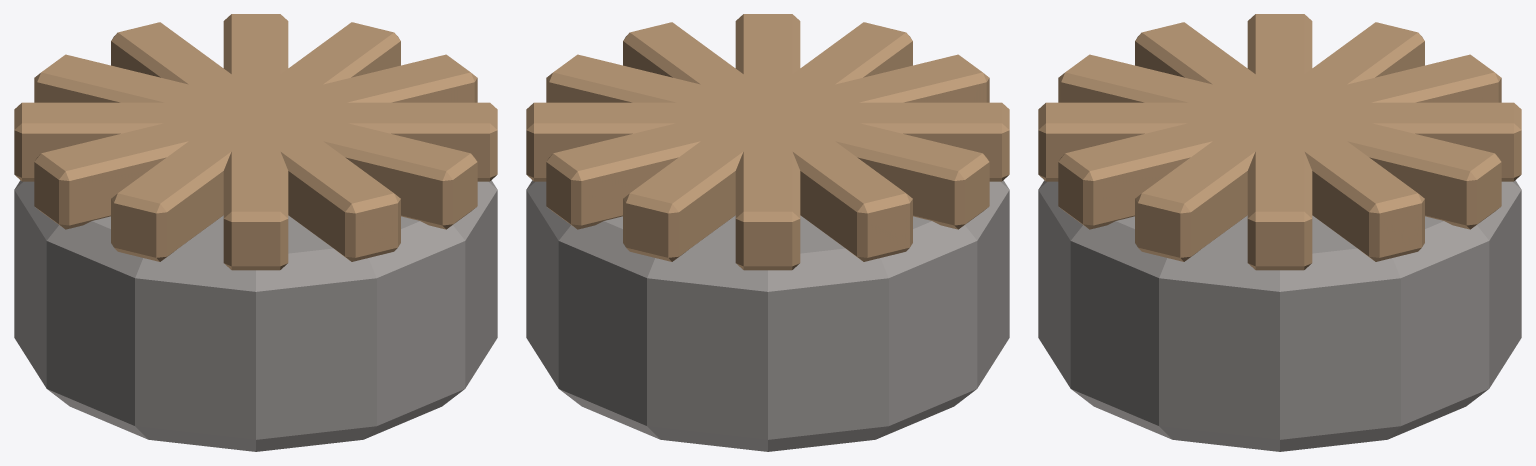
3 views of the same model, side by side, from view 1: azimuth 30°, elevation 25°; view 2: azimuth 150°, elevation 25°; view 3: azimuth 270°, elevation 25° (orthographic).
Visible parts, largest first — view 1: HubVisual; view 2: HubVisual; view 3: HubVisual.
Part boxes in pixels (<box>): HubVisual: <box>14,14,497,451</box>; HubVisual: <box>526,14,1009,451</box>; HubVisual: <box>1038,14,1521,451</box>.
Size of the model in its own units: 0.09 by 0.051 by 0.09.
